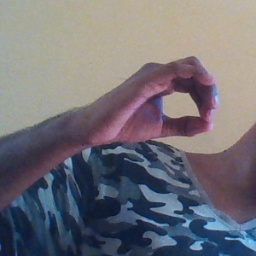O: (91, 48, 227, 150)
